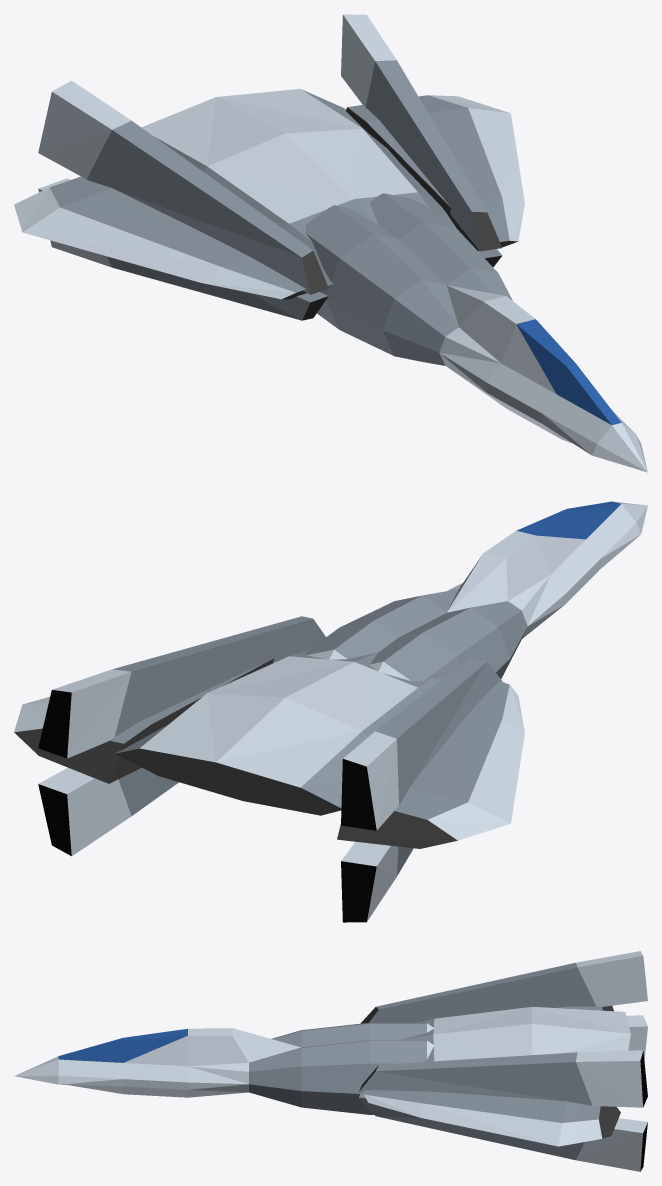
3 renders of one model, top to bottom at view 1: azimuth 30°, elevation 25°; view 2: azimuth 150°, elevation 25°; view 3: azimuth 270°, elevation 25°, orthographic. The views are drawn at different scales.
Parts seen in each view (by area): view 1: VIFS003, VIFS002, VIFS007, VIFS005, VIFS006, VIFS001; view 2: VIFS003, VIFS002, VIFS007, VIFS005, VIFS001, VIFS004, VIFS006; view 3: VIFS003, VIFS002, VIFS007, VIFS005, VIFS006, VIFS001, VIFS004.
Part boxes in pixels (bbox=[...]): VIFS003: bbox=[14, 14, 524, 299]; VIFS002: bbox=[49, 60, 509, 320]; VIFS007: bbox=[305, 193, 512, 365]; VIFS005: bbox=[310, 194, 647, 472]; VIFS006: bbox=[516, 319, 621, 424]; VIFS001: bbox=[282, 107, 517, 320]; VIFS003: bbox=[14, 656, 524, 921]; VIFS002: bbox=[110, 616, 509, 875]; VIFS007: bbox=[305, 589, 527, 681]; VIFS005: bbox=[307, 501, 647, 680]; VIFS001: bbox=[14, 658, 457, 848]; VIFS004: bbox=[38, 690, 376, 922]; VIFS006: bbox=[516, 501, 621, 539]; VIFS003: bbox=[364, 951, 647, 1171]; VIFS002: bbox=[359, 962, 602, 1160]; VIFS007: bbox=[249, 1022, 426, 1114]; VIFS005: bbox=[14, 1023, 434, 1097]; VIFS006: bbox=[58, 1028, 187, 1062]; VIFS001: bbox=[359, 1005, 620, 1138]; VIFS004: bbox=[640, 1051, 647, 1171].
Size of the model in its own units: 1.27 by 0.4072 by 2.
